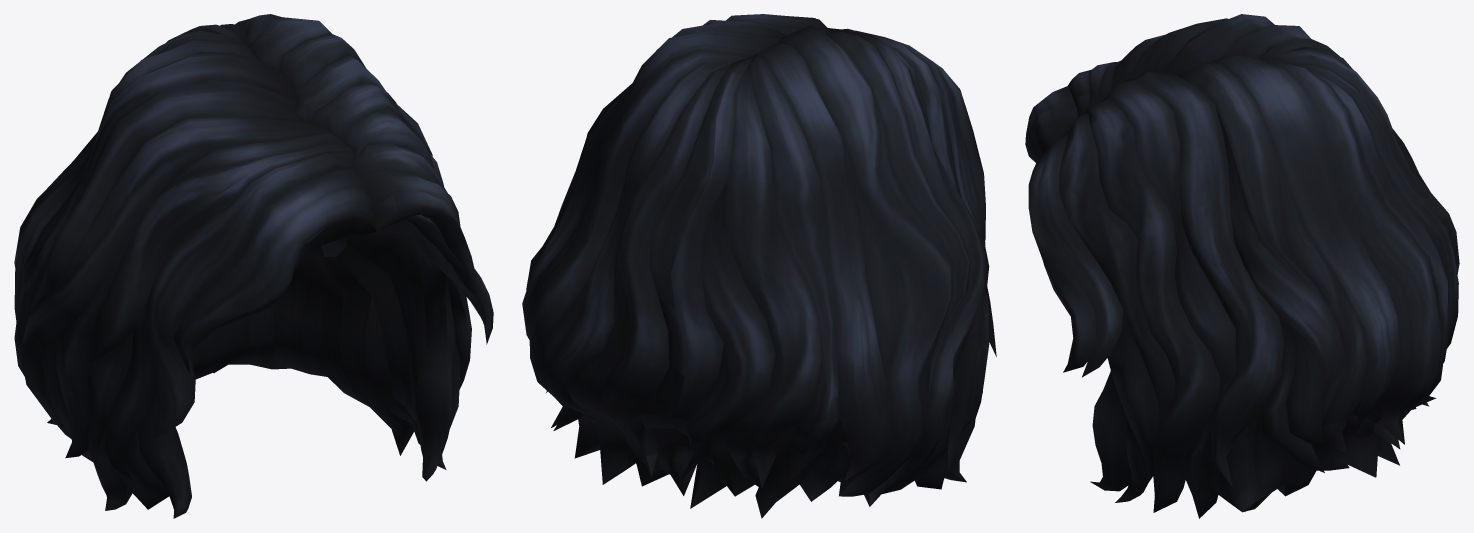
File: hair8.glb
3 renders of one model, left to right at view 1: azimuth 30°, elevation 25°; view 2: azimuth 150°, elevation 25°; view 3: azimuth 270°, elevation 25°, orthographic. The views are drawn at different scales.
Visible parts, largest first — view 1: s4studio_mesh_2, s4studio_mesh_1, s4studio_mesh_3; view 2: s4studio_mesh_2, s4studio_mesh_1, s4studio_mesh_3; view 3: s4studio_mesh_2, s4studio_mesh_1, s4studio_mesh_3.
Part boxes in pixels (left/top/right/bottom): s4studio_mesh_2: left=14, top=14, right=480, bottom=386; s4studio_mesh_1: left=14, top=231, right=493, bottom=518; s4studio_mesh_3: left=154, top=195, right=468, bottom=350; s4studio_mesh_2: left=522, top=14, right=989, bottom=436; s4studio_mesh_1: left=527, top=207, right=996, bottom=518; s4studio_mesh_3: left=553, top=106, right=958, bottom=482; s4studio_mesh_2: left=1025, top=14, right=1459, bottom=410; s4studio_mesh_1: left=1063, top=243, right=1440, bottom=518; s4studio_mesh_3: left=1290, top=415, right=1400, bottom=477.
Bounding box in the file's own units: 0.213 × 0.2182 × 0.2055.
Materials: 1 (1 with a texture image).
